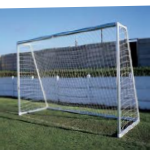goals: (14, 19, 141, 140)
